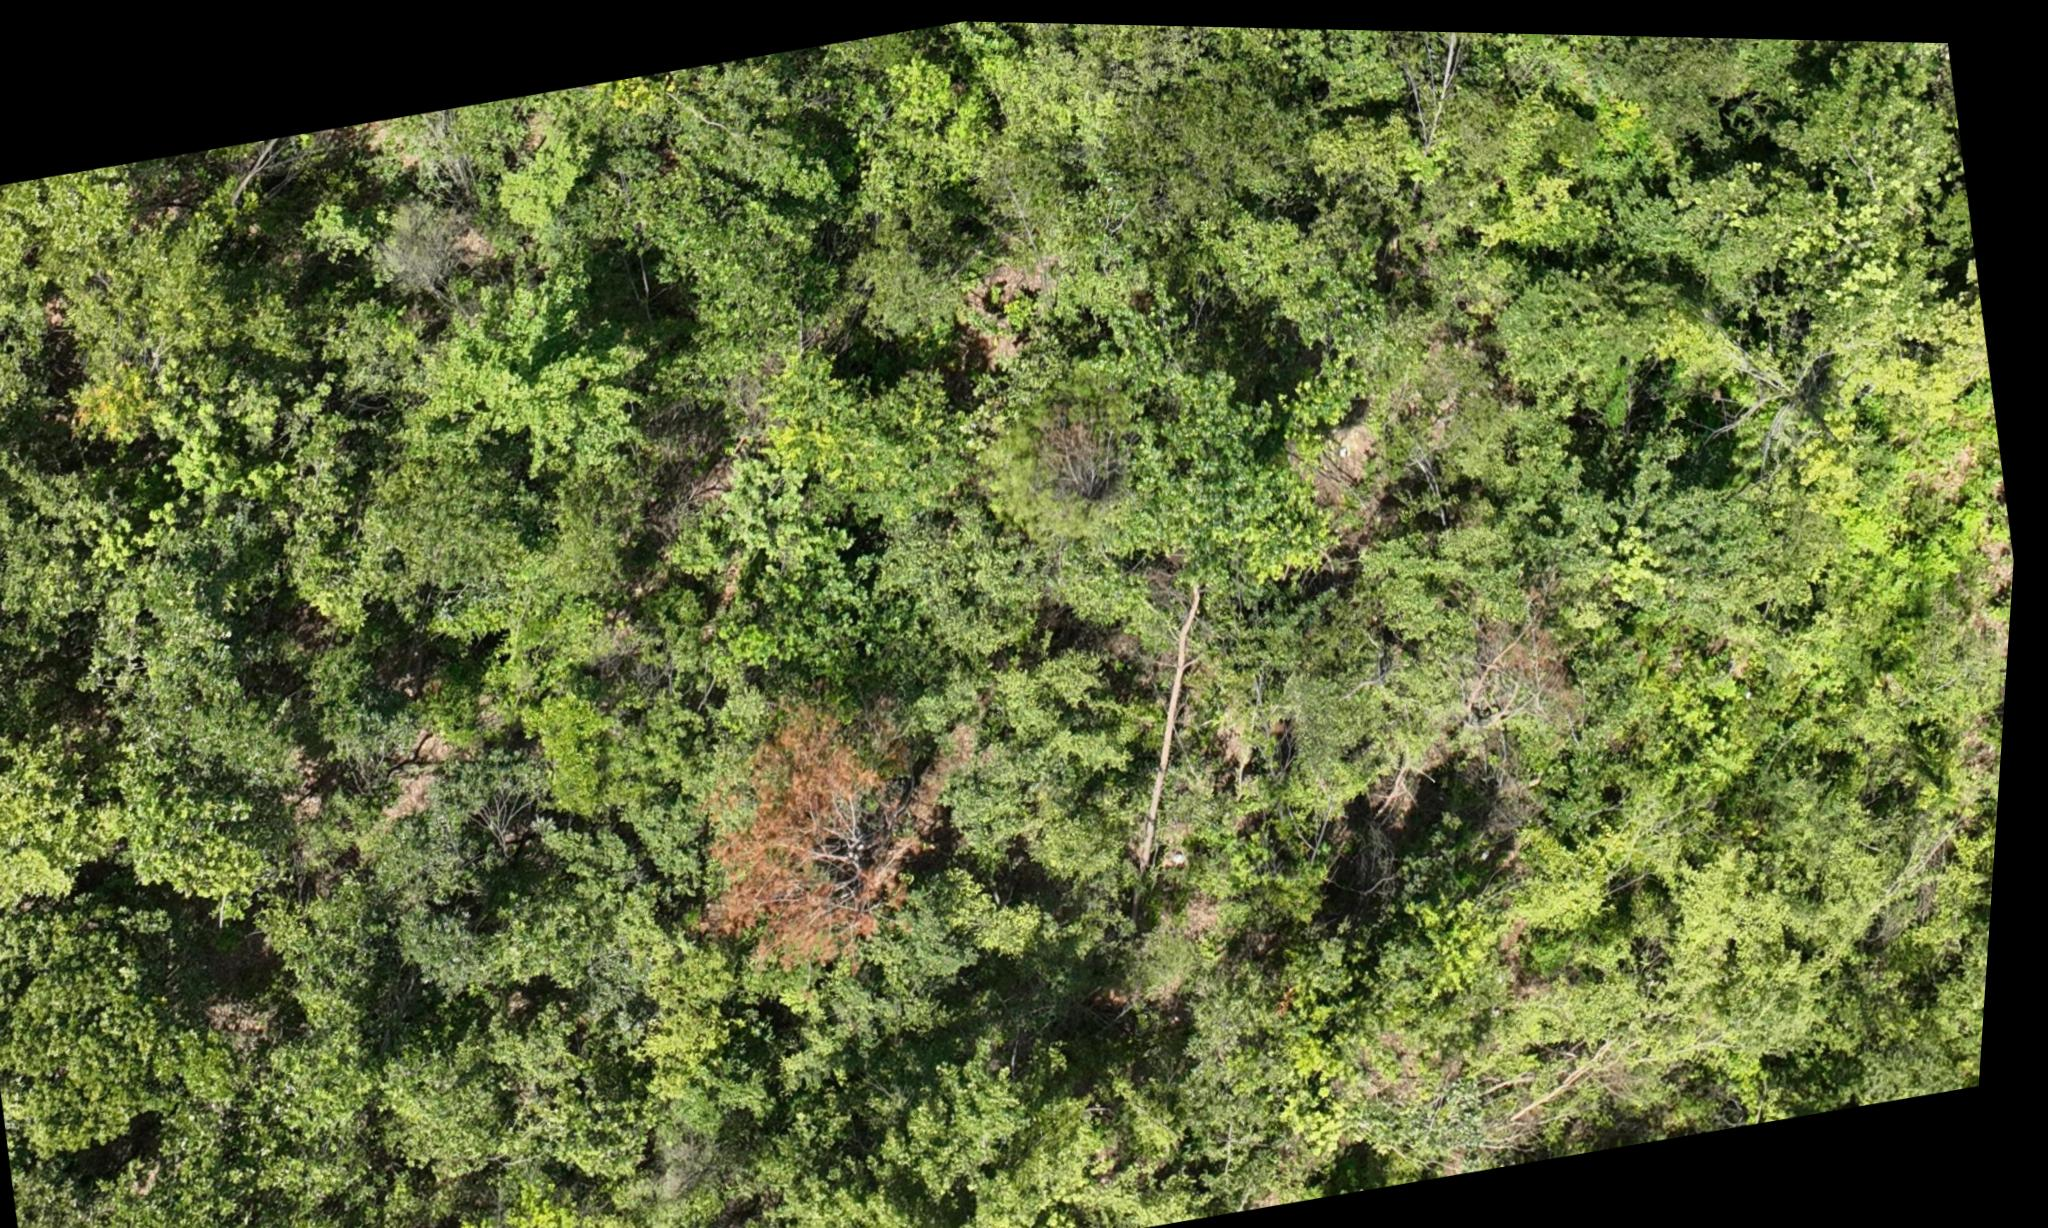heavy: (687, 687, 969, 979)
